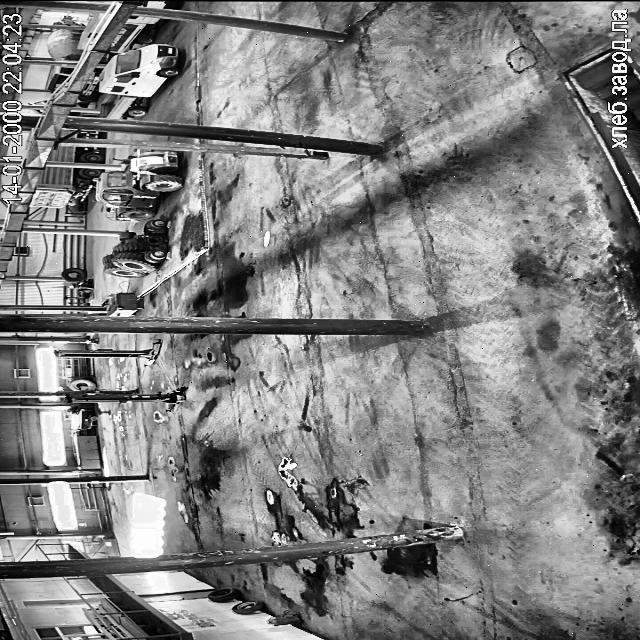car lift: (67, 387, 186, 410), (54, 340, 161, 365)
fire extinguisher: (268, 615, 300, 624)
tractor: (96, 151, 182, 220), (102, 220, 166, 278)
truck: (99, 44, 180, 118), (28, 167, 100, 208), (108, 16, 158, 52), (46, 30, 83, 60), (48, 146, 103, 164), (80, 12, 102, 48), (77, 69, 98, 105), (45, 66, 73, 91), (140, 0, 179, 8), (60, 130, 99, 137), (59, 20, 75, 24)
